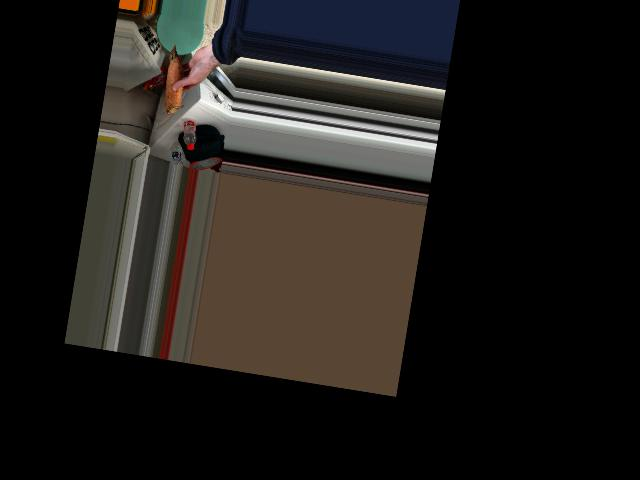sweet_potato: (162, 46, 193, 110)
